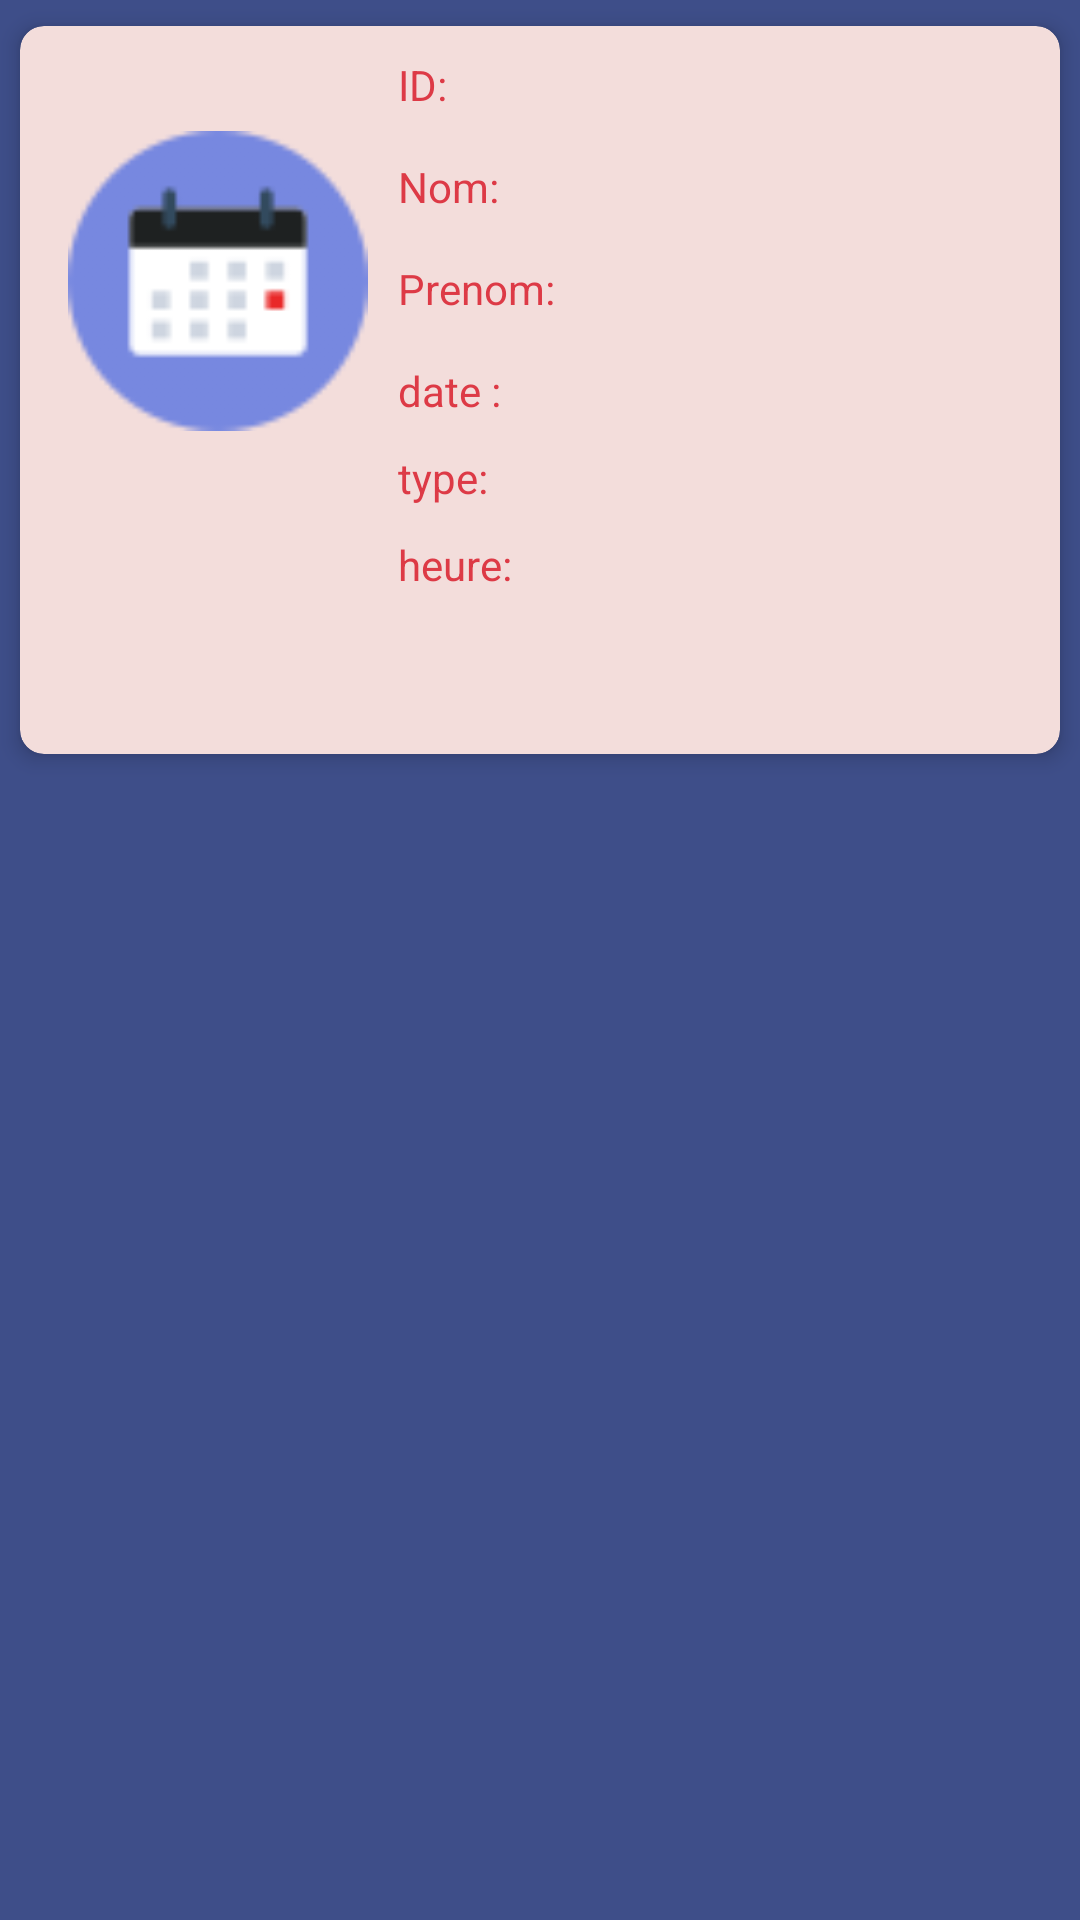

Icon bounding boxes for this 1080w x 1920h phone screenshot, format box(x1, y1, x2, y2):
calendar: box(68, 131, 368, 431)
